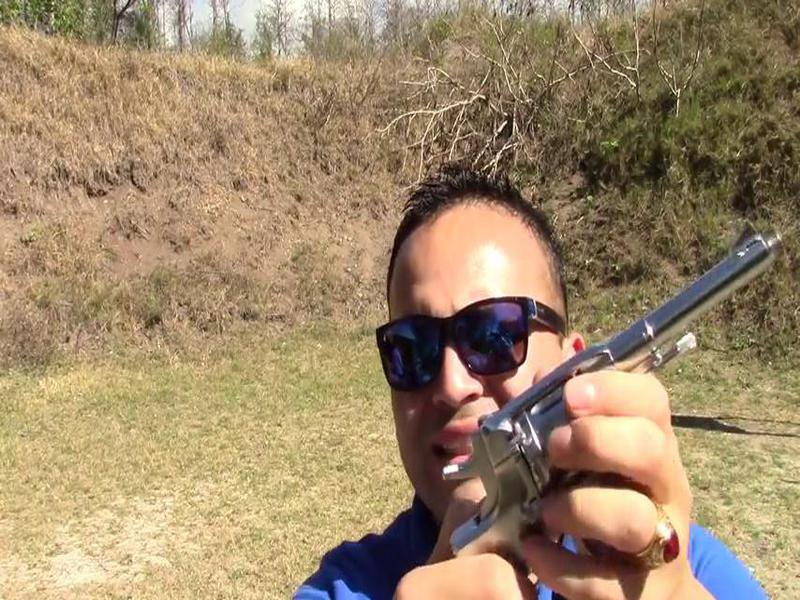Revolver: (437, 217, 794, 584)
